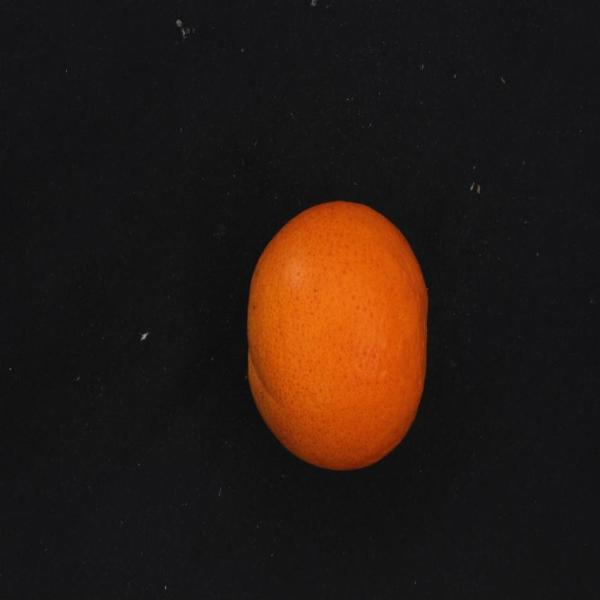Moho verde: (234, 193, 434, 482)
